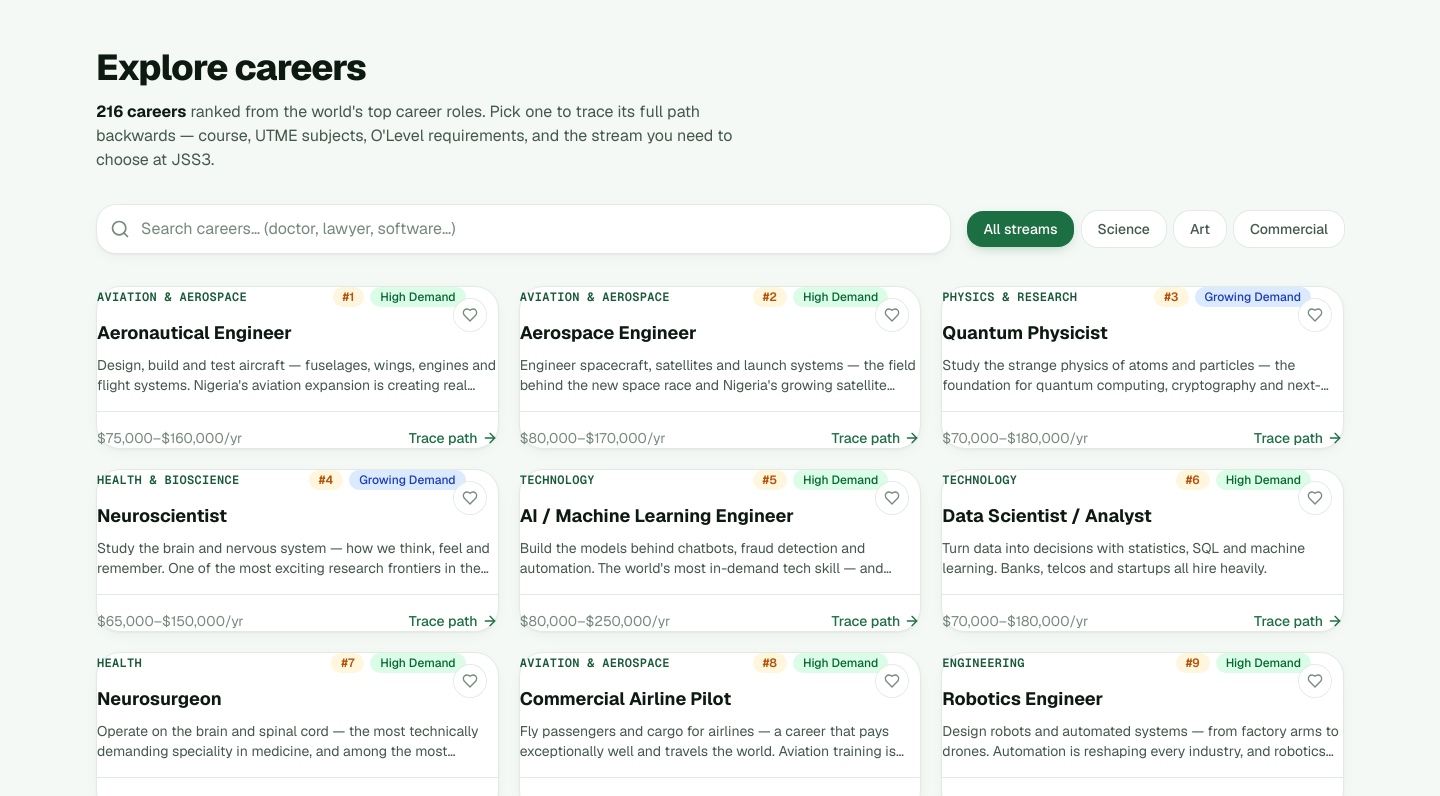
CareersExplorer › shows an empty state when nothing matches
The width and height of the screenshot is (1440, 796).
Type "zzzzz-no-such-career" into the field labelled "Search careers".
click(524, 229); type("zzzzz-no-such-career")  # box top-left (96, 204), bottom-right (952, 254)
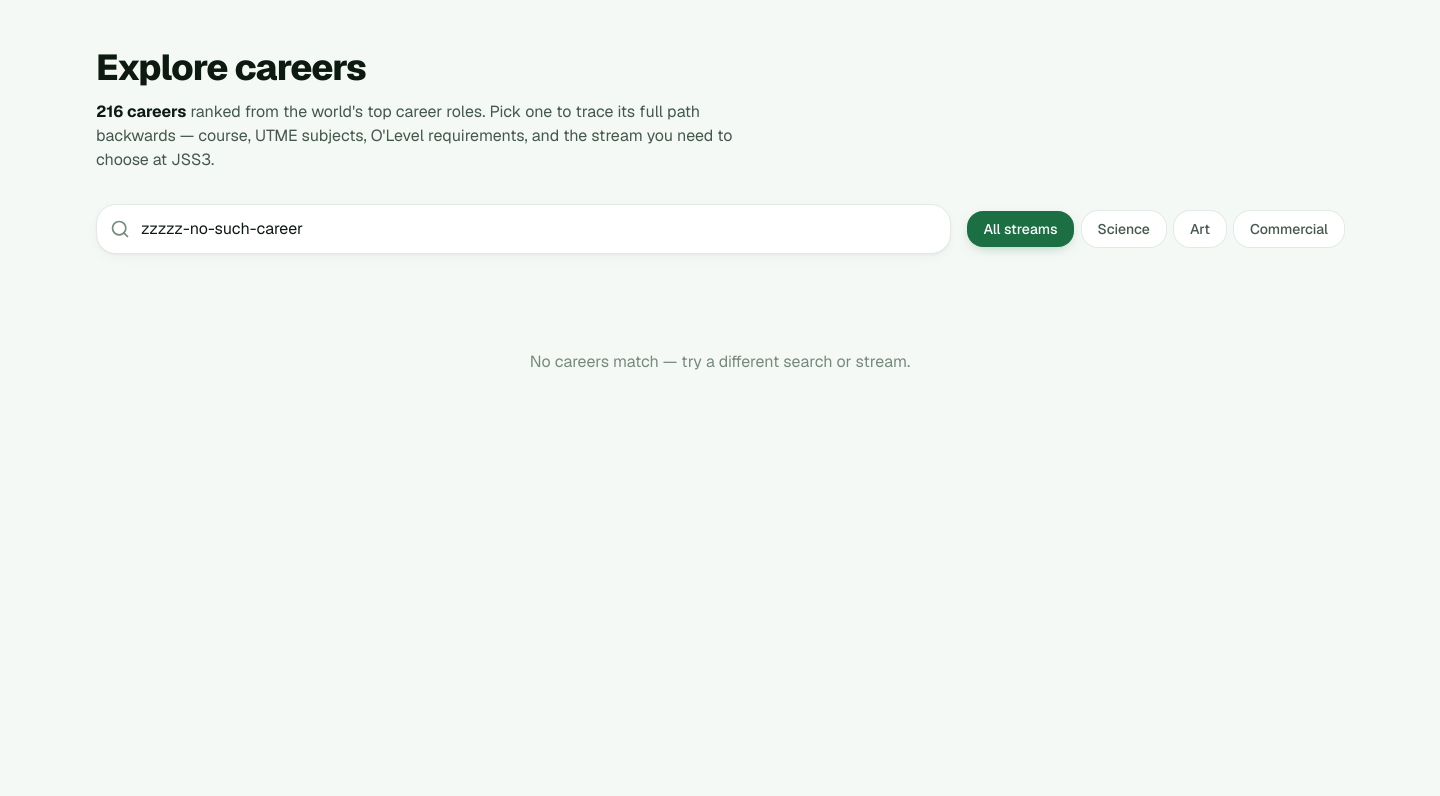
expect the text "No careers match — try a different search or stream." is shown: met, box top-left (530, 351), bottom-right (910, 372)
